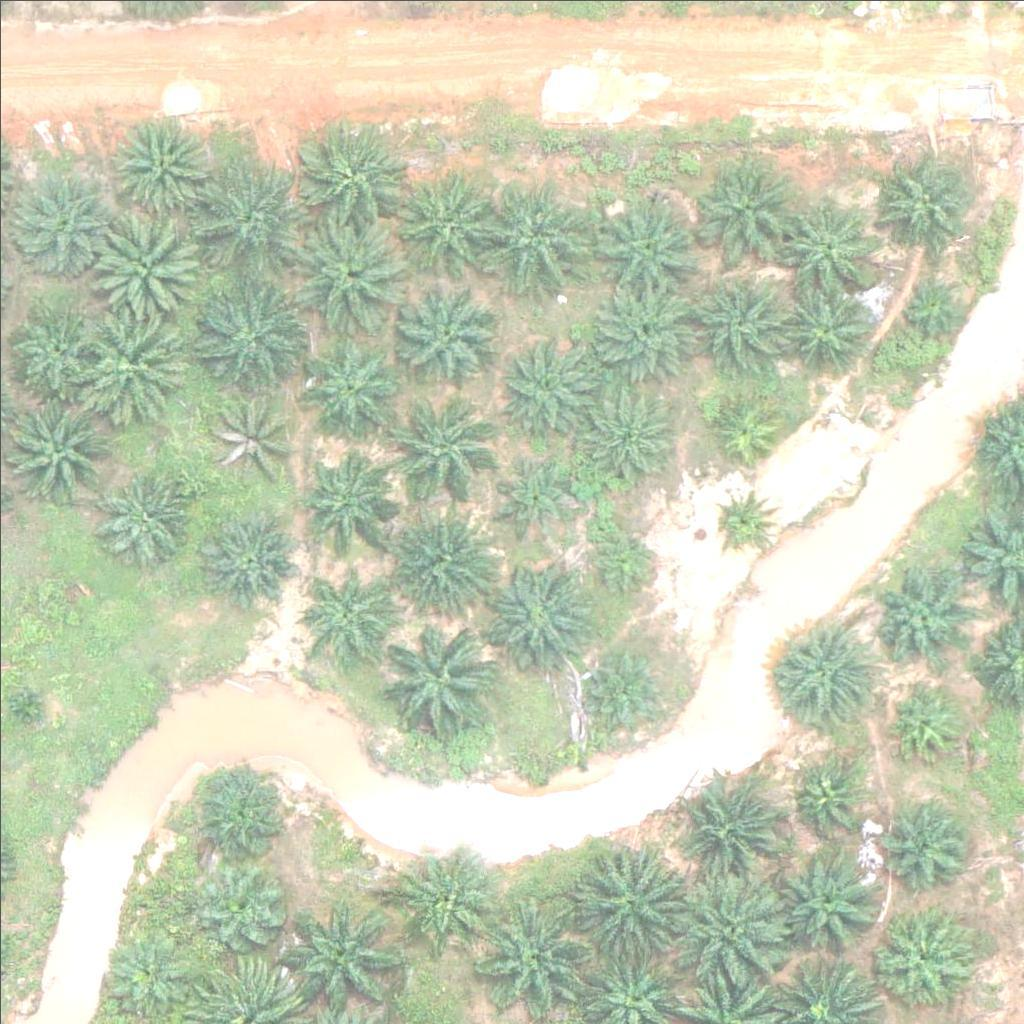Kelapa_Sawit: (577, 844, 690, 958), (293, 117, 406, 230), (380, 627, 493, 740), (486, 554, 599, 667), (588, 276, 701, 389), (591, 188, 704, 301), (689, 149, 802, 262), (382, 395, 494, 509), (484, 178, 596, 292), (1, 394, 113, 507), (78, 311, 190, 424), (91, 213, 203, 326), (189, 158, 301, 271), (193, 279, 305, 392), (289, 903, 401, 1016), (295, 217, 407, 330), (394, 160, 506, 273), (391, 499, 503, 612), (478, 903, 590, 1016), (670, 870, 782, 983), (11, 176, 111, 277), (97, 465, 197, 566), (301, 445, 401, 546), (399, 283, 499, 384), (782, 852, 882, 953), (499, 332, 599, 433), (691, 266, 791, 367), (776, 275, 876, 376), (874, 149, 974, 250), (112, 114, 212, 214), (191, 764, 291, 864), (200, 511, 300, 611), (301, 342, 401, 442), (394, 843, 494, 943), (684, 778, 784, 878), (774, 618, 874, 718), (576, 385, 676, 485), (781, 196, 881, 296), (871, 910, 971, 1010), (868, 565, 968, 665), (13, 305, 101, 393), (199, 869, 287, 957), (488, 451, 576, 539), (583, 643, 671, 731), (886, 805, 974, 893), (102, 934, 190, 1022), (204, 392, 291, 480), (302, 562, 389, 650), (887, 686, 962, 762), (792, 761, 867, 836), (584, 525, 659, 600), (708, 387, 783, 462), (893, 263, 968, 338), (711, 486, 774, 549), (4, 683, 54, 734)
